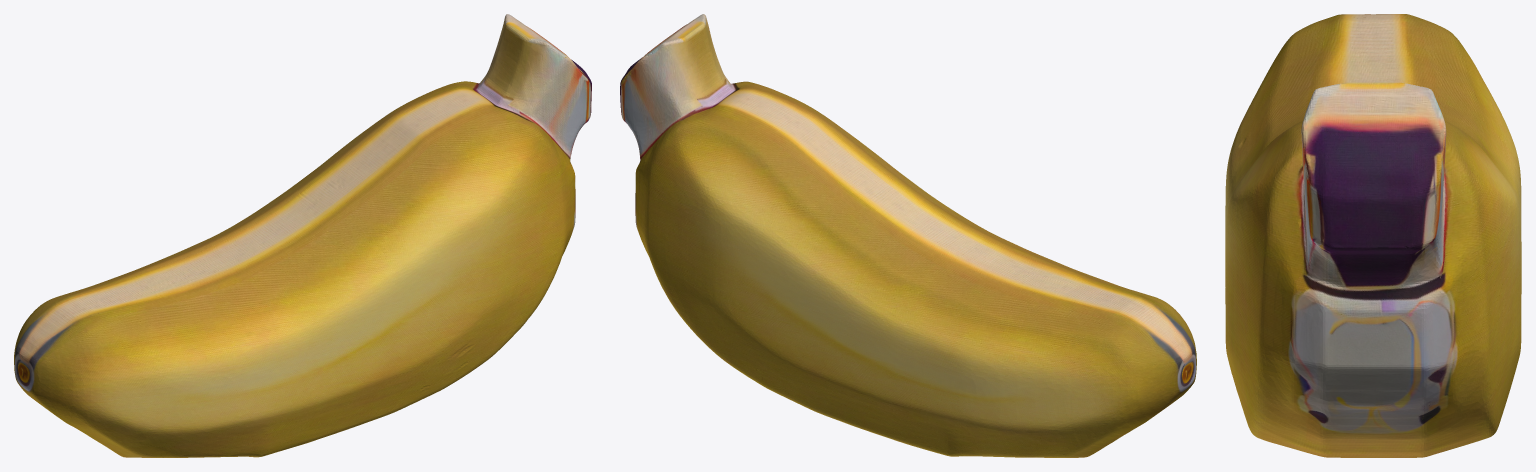
The model's file is image_0004_segmented.glb.
3 renders of one model, left to right at view 1: azimuth 30°, elevation 25°; view 2: azimuth 150°, elevation 25°; view 3: azimuth 270°, elevation 25°, orthographic. The views are drawn at different scales.
Visible parts, largest first — view 1: tmp914uflxz.ply; view 2: tmp914uflxz.ply; view 3: tmp914uflxz.ply.
Part boxes in pixels (x1,y1,x2,y2): tmp914uflxz.ply: [14, 14, 591, 457]; tmp914uflxz.ply: [620, 14, 1196, 457]; tmp914uflxz.ply: [1225, 14, 1521, 457].
Bounding box in the file's own units: 1.99 × 1.17 × 0.646.
Materials: 1 (1 with a texture image).
